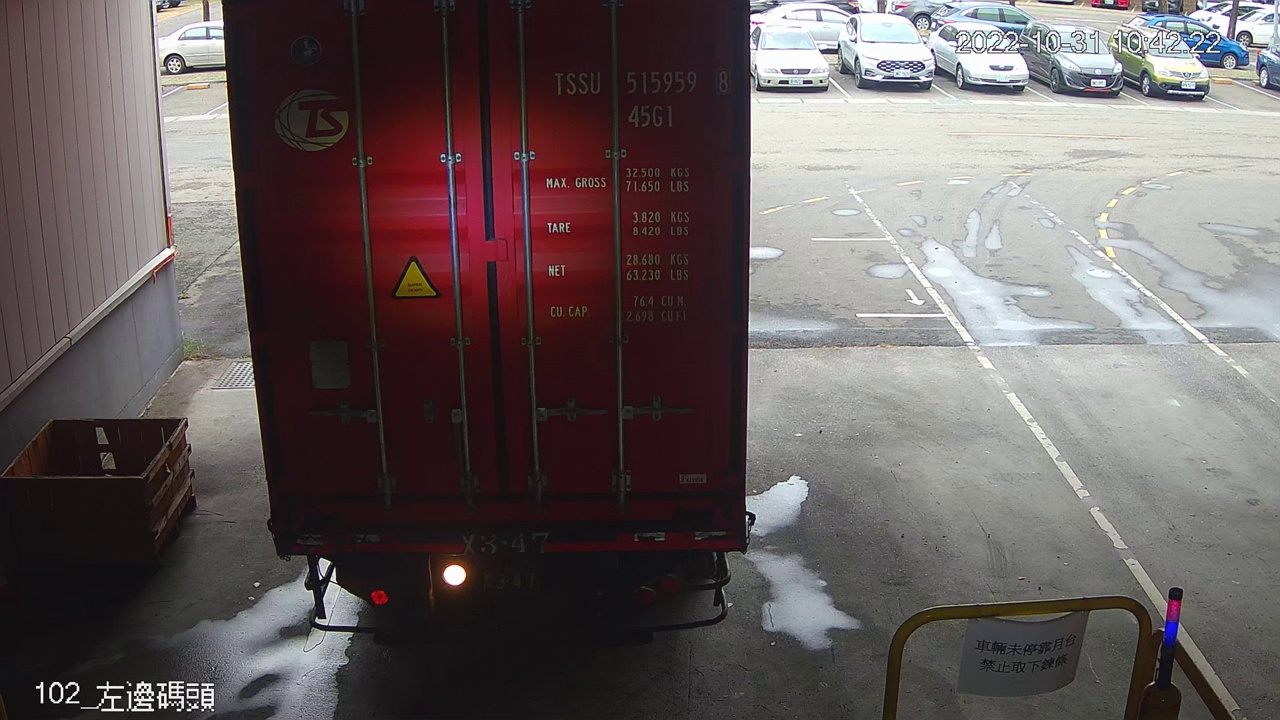container: (544, 61, 737, 136)
